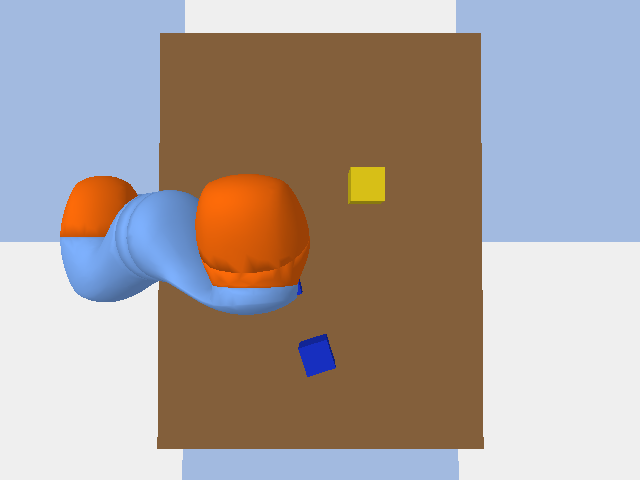blue_obj: (298, 334, 335, 376), (297, 279, 302, 294)
yellow_obj: (348, 167, 384, 203)
